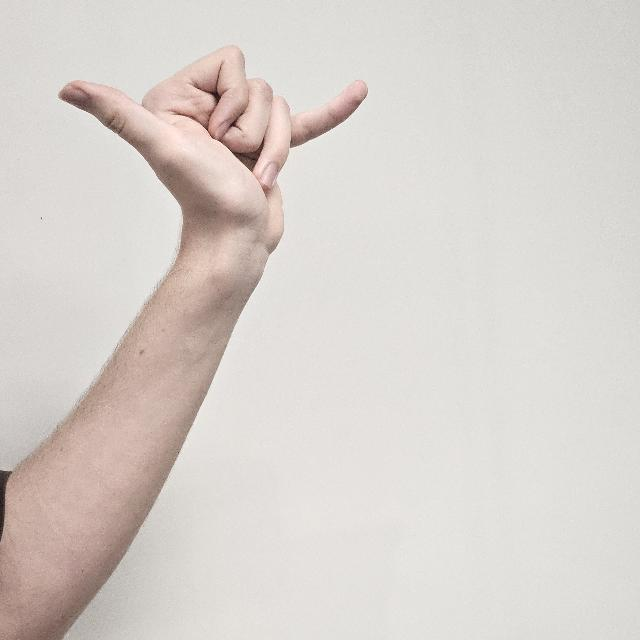Direita: (61, 39, 366, 264)
